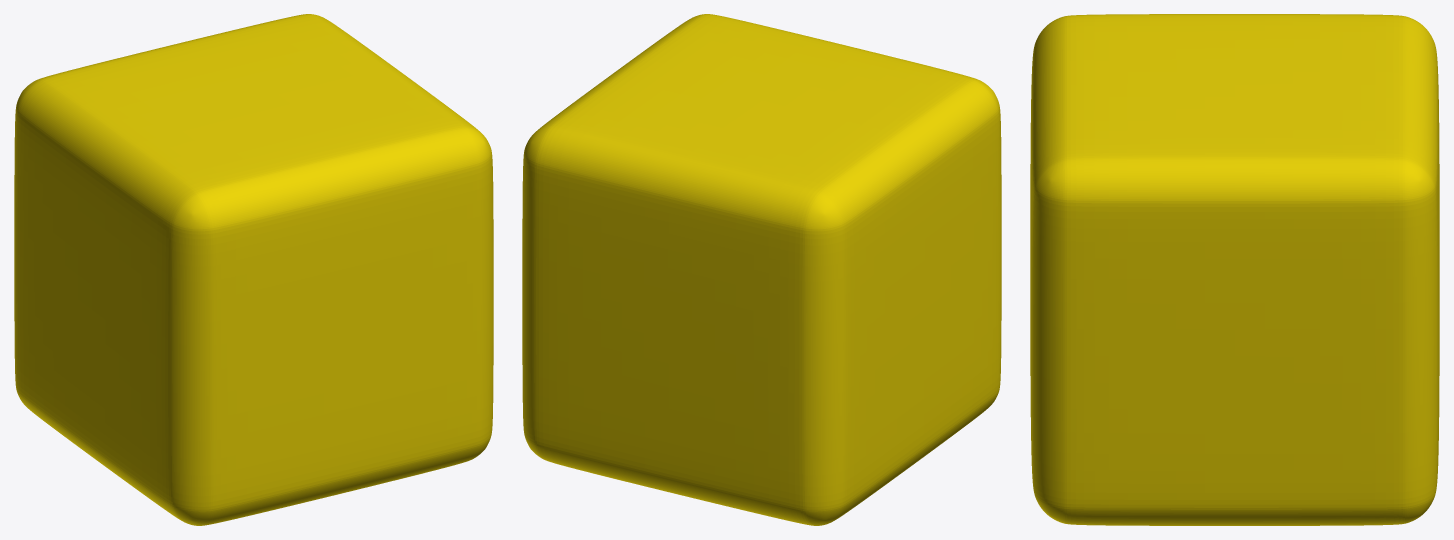
3 views of the same model, side by side, from view 1: azimuth 30°, elevation 25°; view 2: azimuth 150°, elevation 25°; view 3: azimuth 270°, elevation 25° (orthographic). The views are drawn at different scales.
Parts seen in each view (by area): view 1: Cube; view 2: Cube; view 3: Cube.
Part boxes in pixels (x1=…): Cube: x1=14, y1=14, x2=493, y2=525; Cube: x1=522, y1=14, x2=1001, y2=525; Cube: x1=1030, y1=14, x2=1439, y2=525.
Size of the model in its own units: 200 by 200 by 200.
